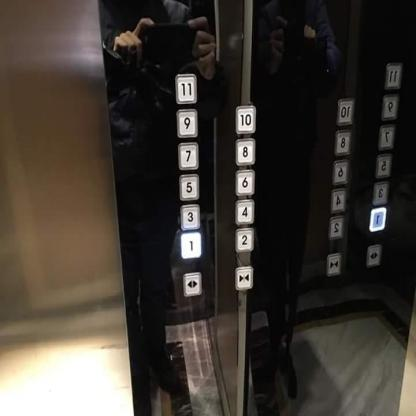1: (180, 232, 201, 257)
10: (235, 105, 256, 132)
11: (174, 72, 197, 104)
2: (235, 227, 253, 251)
3: (180, 204, 199, 230)
4: (235, 198, 254, 223)
5: (178, 173, 198, 200)
6: (235, 168, 254, 195)
7: (178, 142, 198, 168)
8: (235, 136, 255, 164), (333, 128, 351, 154)
9: (176, 109, 198, 137)
close: (234, 266, 252, 290), (326, 251, 340, 276)
open: (182, 271, 201, 295), (365, 243, 381, 266)
unknown: (384, 62, 402, 90), (336, 97, 354, 124), (368, 207, 386, 231), (382, 94, 399, 119), (332, 159, 349, 184), (375, 152, 391, 178), (378, 124, 394, 149), (330, 186, 345, 212), (328, 215, 344, 239), (372, 181, 387, 204)
